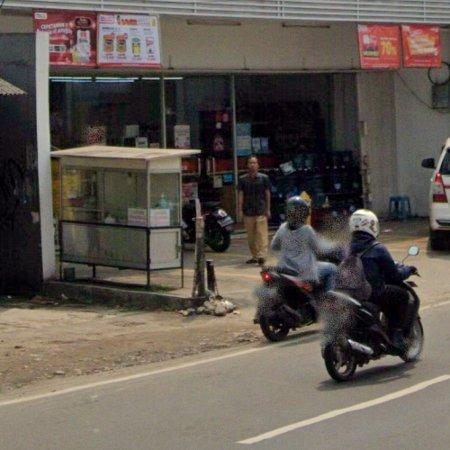motorcycles: (322, 282, 425, 382), (256, 267, 318, 342)
